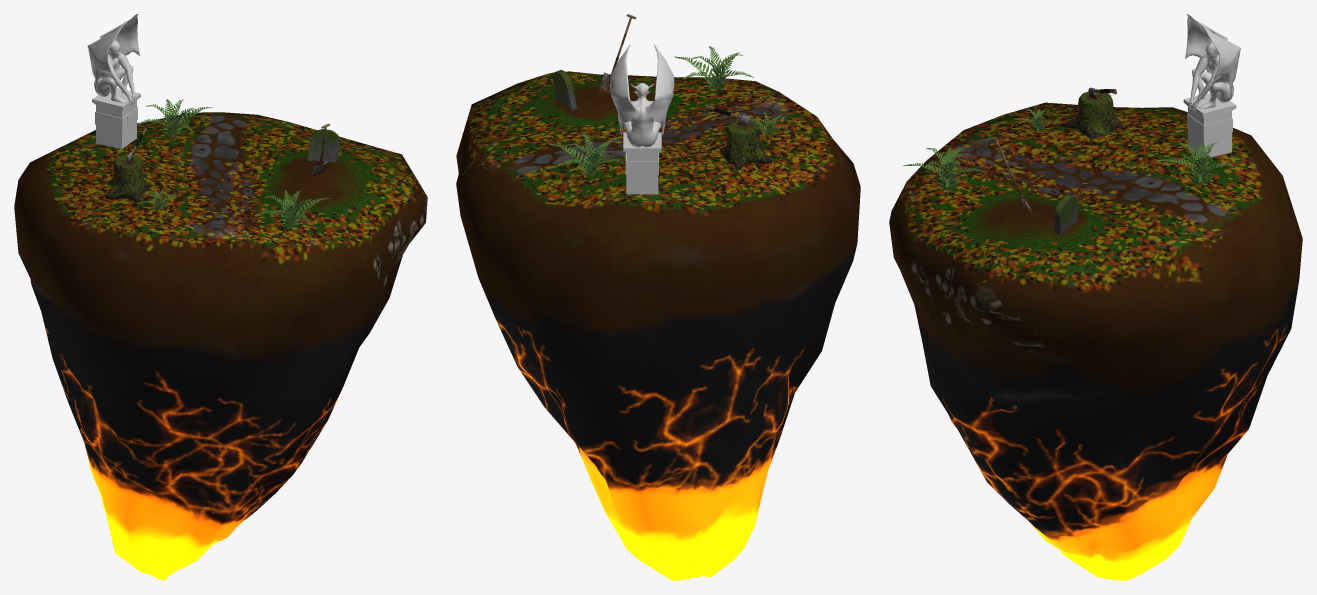
File: Diorama.fbx
3 views of the same model, side by side, from view 1: azimuth 30°, elevation 25°; view 2: azimuth 150°, elevation 25°; view 3: azimuth 270°, elevation 25° (orthographic). The views are drawn at different scales.
Visible parts, largest first — view 1: plattform_LP, gargoyle_statue_LP, ground_LP, branch (×2), tree_LP, gravestone_LP; view 2: plattform_LP, gargoyle_statue_LP, branch (×2), ground_LP, tree_LP, gravestone_LP; view 3: plattform_LP, gargoyle_statue_LP, ground_LP, branch (×2), tree_LP, gravestone_LP.
Part boxes in pixels (x1,y1,x2,y2): plattform_LP: (14,112,427,580); gargoyle_statue_LP: (87,14,139,105); ground_LP: (92,88,140,148); branch (×2): (136,99,331,228); tree_LP: (105,154,153,202); gravestone_LP: (306,129,340,162); plattform_LP: (456,71,860,580); gargoyle_statue_LP: (610,44,674,147); branch (×2): (548,46,754,176); ground_LP: (623,132,661,194); tree_LP: (720,120,772,170); gravestone_LP: (552,70,577,109); plattform_LP: (889,102,1302,580); gargoyle_statue_LP: (1185,14,1240,111); ground_LP: (1183,93,1236,157); branch (×2): (903,142,1241,191); tree_LP: (1064,91,1122,139); gravestone_LP: (1054,194,1077,234).
Size of the model in its own units: 113 by 165 by 110.
